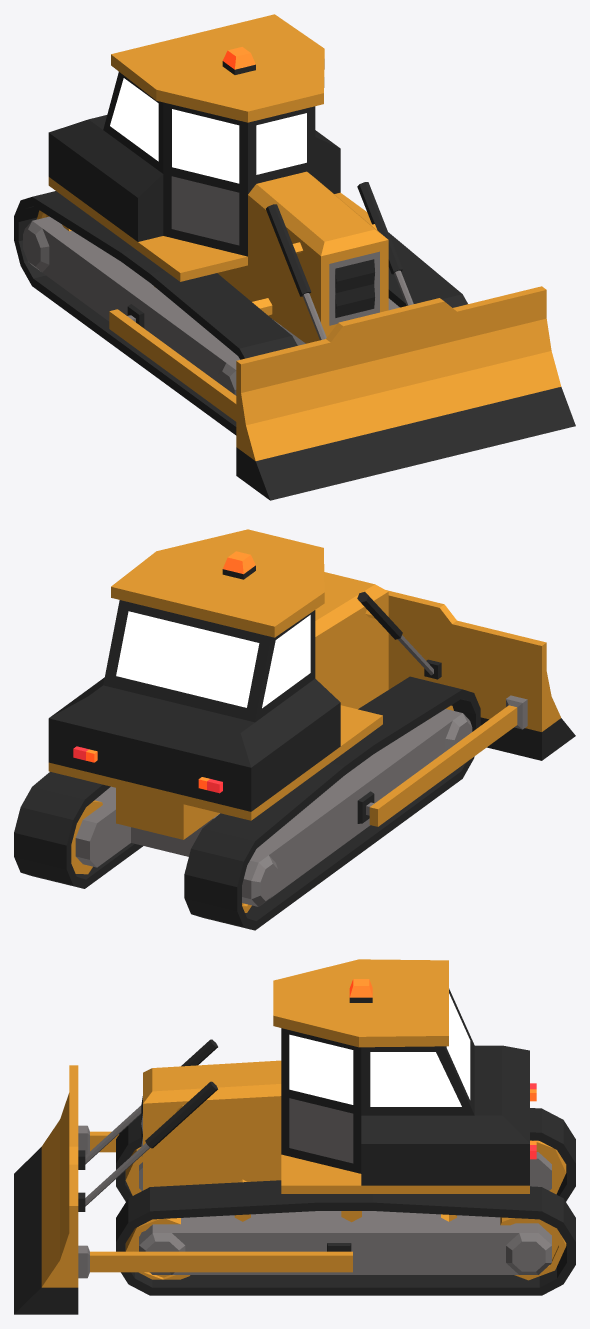
The model's file is vehicles-bulldozer.glb.
The picture shows the model from 3 angles, top to bottom: view 1: azimuth 30°, elevation 25°; view 2: azimuth 150°, elevation 25°; view 3: azimuth 270°, elevation 25°; orthographic projection. The views are drawn at different scales.
Parts seen in each view (by area): view 1: bulldozer-base, bulldozer-front, bulldozer-belt, bulldozer-chassis; view 2: bulldozer-base, bulldozer-belt, bulldozer-front, bulldozer-chassis, bulldozer-wheel_B; view 3: bulldozer-base, bulldozer-belt, bulldozer-front, bulldozer-chassis, bulldozer-wheel_B, bulldozer-wheel_F.
Boxes of the visible parts, box(x1,y1,x2,y2) form: bulldozer-base: box(48, 14, 388, 343); bulldozer-front: box(109, 182, 575, 500); bulldozer-belt: box(14, 191, 467, 435); bulldozer-chassis: box(23, 216, 399, 395); bulldozer-base: box(48, 529, 388, 839); bulldozer-belt: box(14, 676, 480, 930); bulldozer-front: box(357, 590, 575, 826); bulldozer-chassis: box(75, 709, 472, 906); bulldozer-wheel_B: box(71, 800, 251, 912); bulldozer-base: box(141, 959, 536, 1193); bulldozer-belt: box(116, 1108, 575, 1295); bulldozer-front: box(14, 1039, 352, 1314); bulldozer-chassis: box(139, 1152, 551, 1274); bulldozer-wheel_B: box(500, 1140, 566, 1280); bulldozer-wheel_F: box(125, 1147, 190, 1279).
Size of the model in its own units: 2.9 by 2.51 by 4.88.
